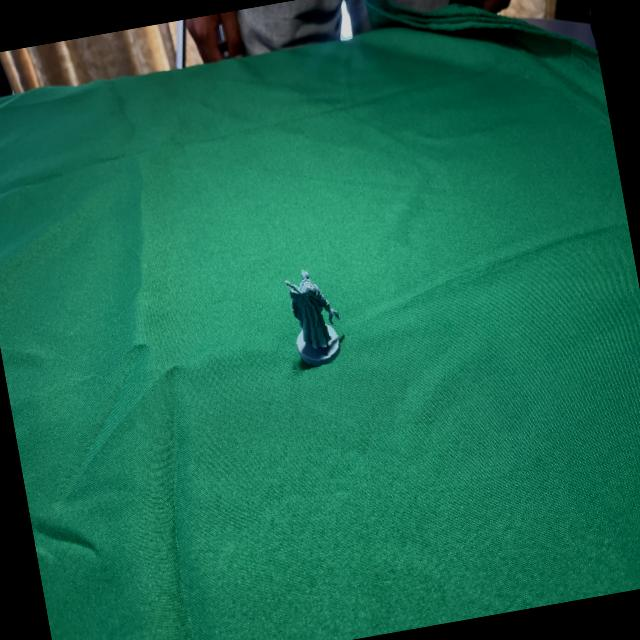isis_follower: (272, 261, 348, 371)
